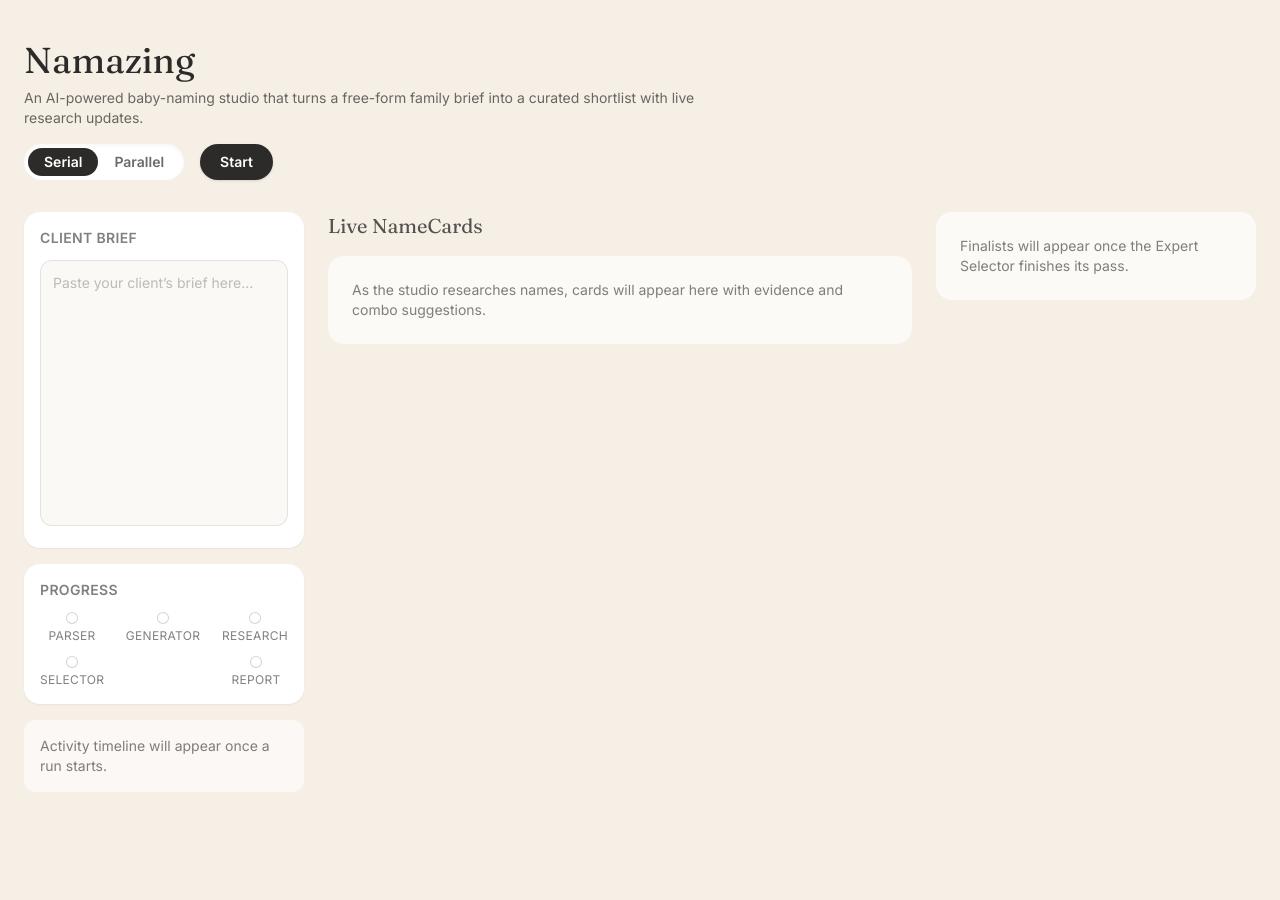
Scenario: StudioApp › Empty brief validation › shows error when clicking Start with empty brief
The image size is (1280, 900).
What coordinates should you click on to do the following:
click the button "Start"
I would click on:
 (237, 162)
Its box is [200,144,273,180].
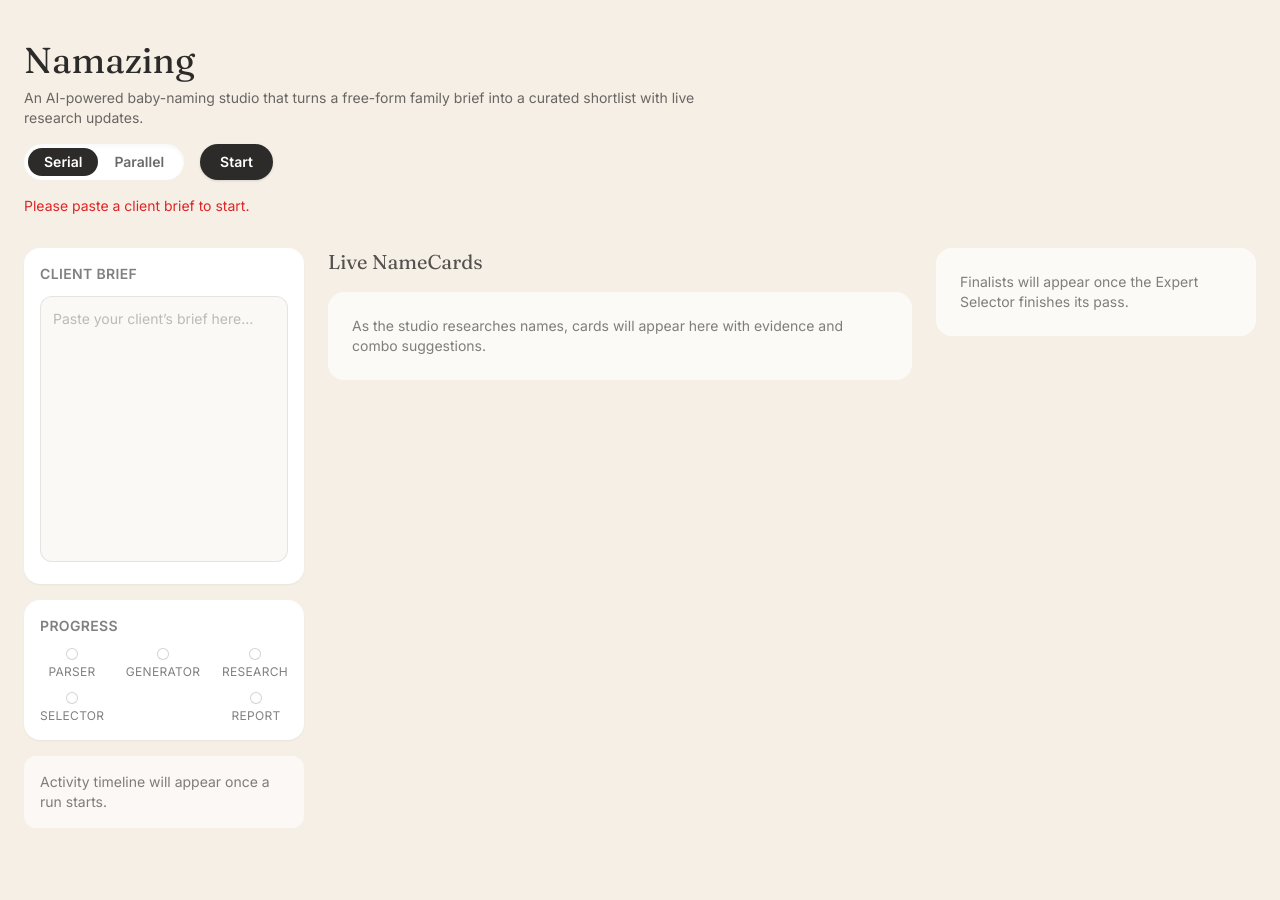
Result: the text "Please paste a client brief to start." is shown at [24,197,250,214]
